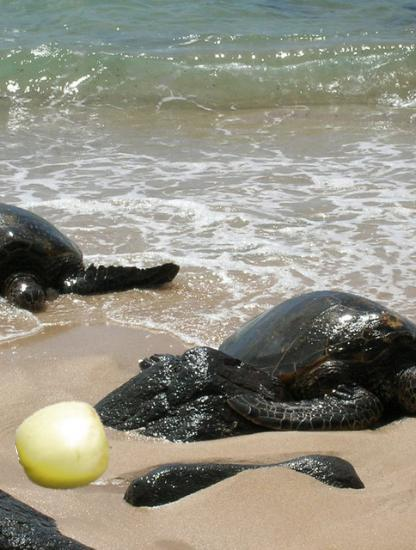Apple: (17, 401, 110, 494)
